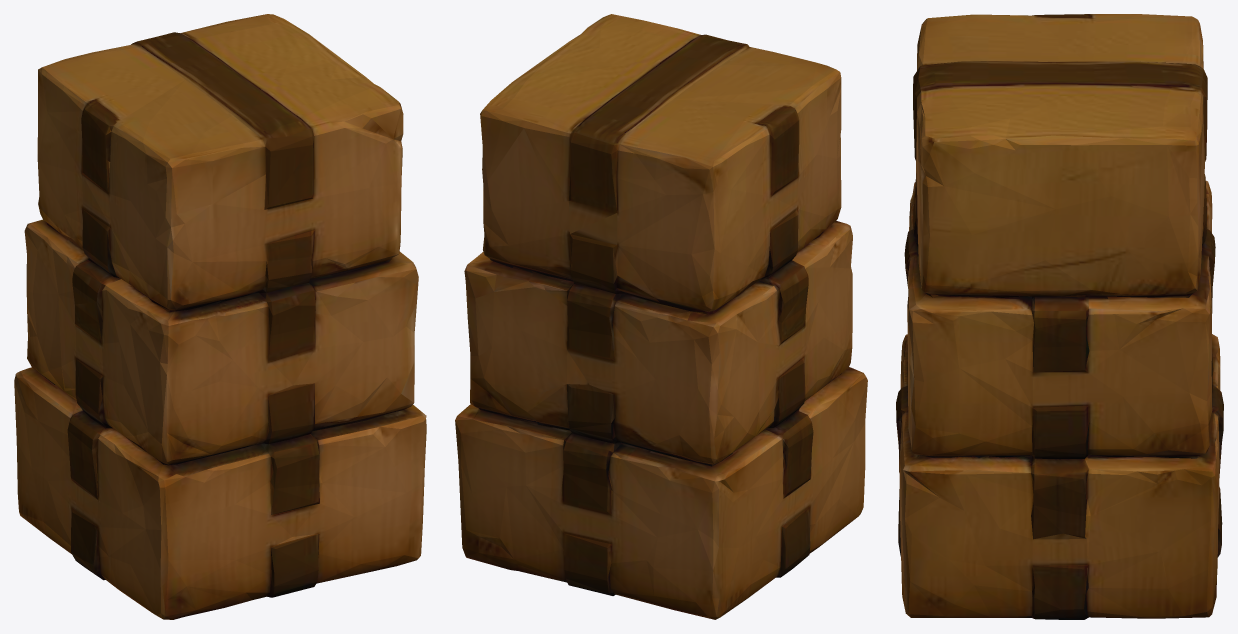
File: boxes_lod2.glb
The picture shows the model from 3 angles, left to right: view 1: azimuth 30°, elevation 25°; view 2: azimuth 150°, elevation 25°; view 3: azimuth 270°, elevation 25°; orthographic projection. The views are drawn at different scales.
Parts seen in each view (by area): view 1: material; view 2: material; view 3: material.
Boxes of the visible parts, x1,y1,x2,y2 form: material: (14,14,426,619); material: (455,14,867,619); material: (896,14,1223,619).
Size of the model in its own units: 0.6361 by 1 by 0.6105.
Materials: 1 (1 with a texture image).
